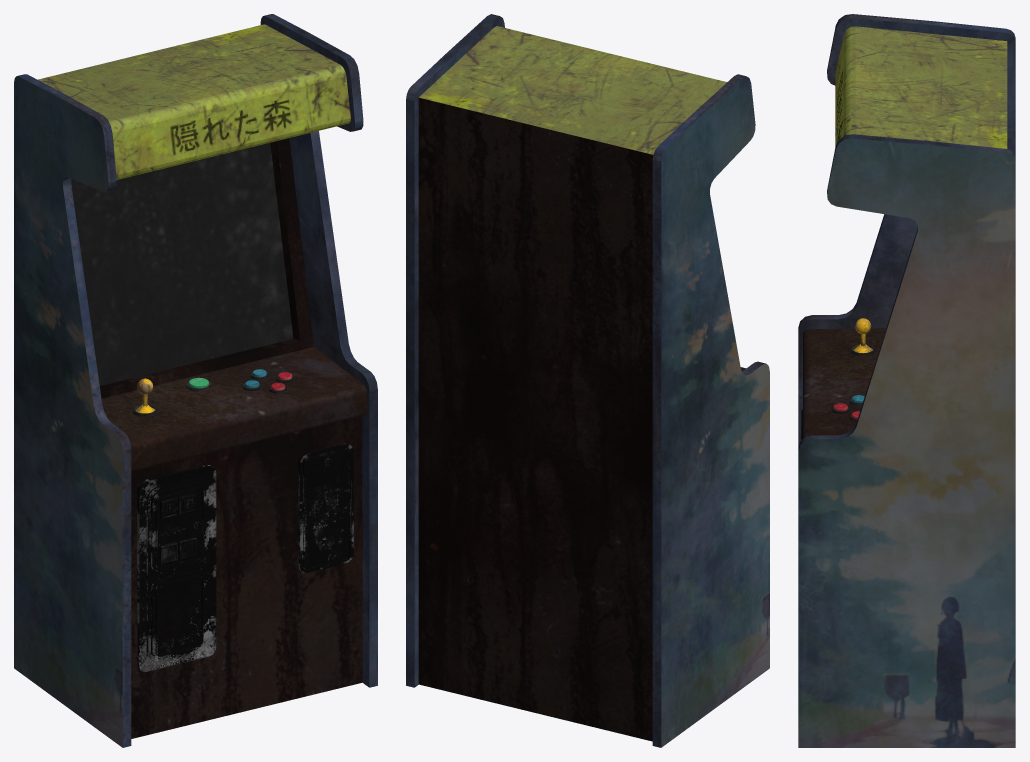
The model's file is Arcade.fbx.
3 renders of one model, left to right at view 1: azimuth 30°, elevation 25°; view 2: azimuth 150°, elevation 25°; view 3: azimuth 270°, elevation 25°, orthographic.
Parts seen in each view (by area): view 1: Arcade; view 2: Arcade; view 3: Arcade.
Boxes of the visible parts, x1=… form: Arcade: x1=14, y1=14, x2=377, y2=747; Arcade: x1=406, y1=14, x2=769, y2=747; Arcade: x1=798, y1=14, x2=1015, y2=747.
Size of the model in its own units: 271 by 619 by 200.
2 materials, 1 textured.
